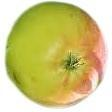fruit: (4, 2, 108, 108)
